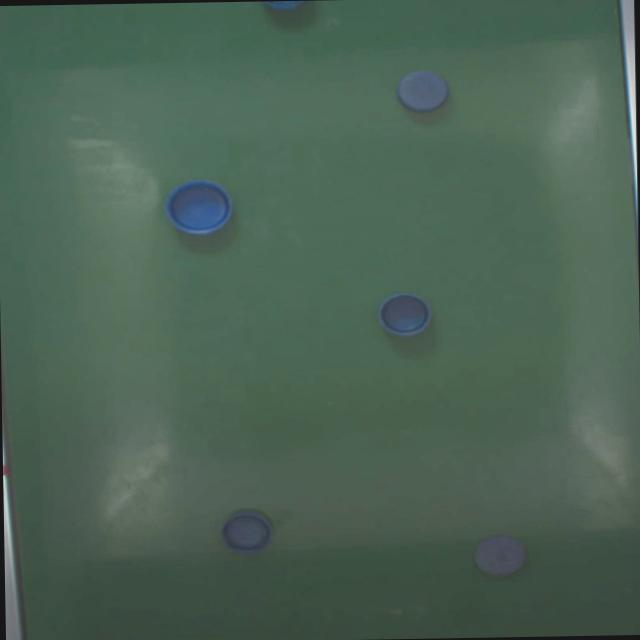dark blue: (165, 179, 232, 235), (220, 509, 272, 555), (378, 292, 431, 336), (473, 534, 526, 577)
light blue: (396, 70, 449, 112)
